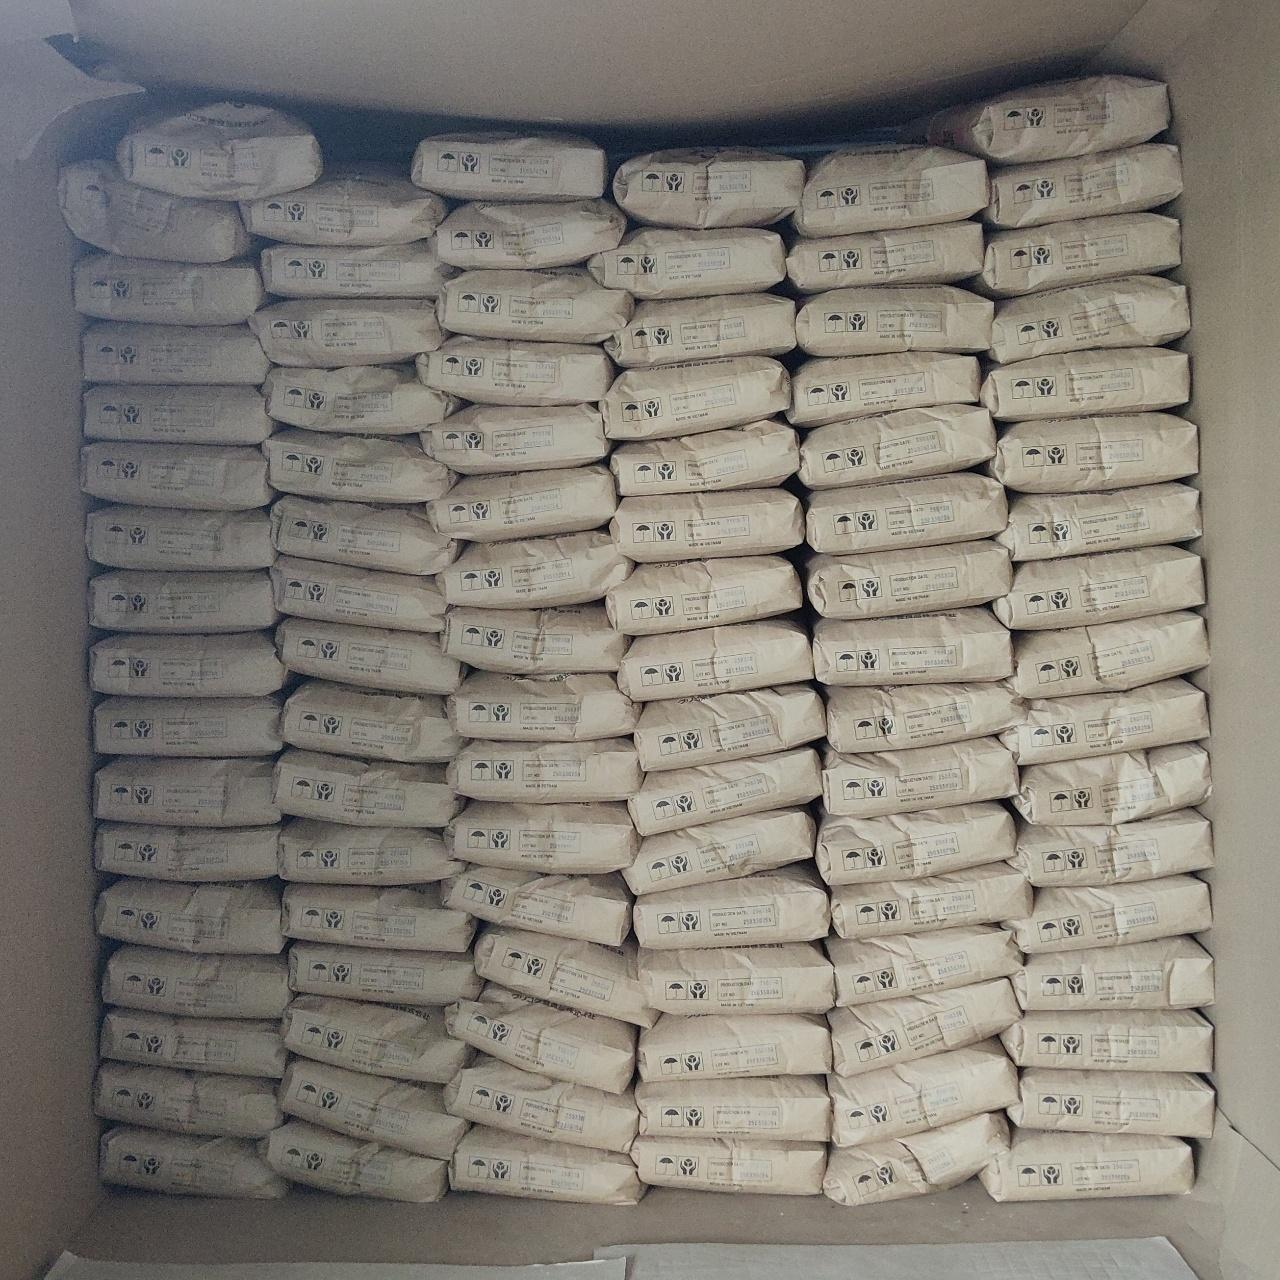sack: (914, 79, 1166, 162), (57, 159, 252, 263), (445, 986, 634, 1088), (830, 1039, 1014, 1142), (118, 104, 320, 198), (280, 1058, 468, 1158), (445, 1056, 636, 1150), (1002, 680, 1206, 764), (476, 926, 652, 1022), (994, 549, 1204, 628), (832, 980, 1017, 1070), (794, 148, 986, 234), (629, 748, 821, 835), (1008, 612, 1206, 694), (634, 864, 826, 948), (826, 1114, 1006, 1204), (976, 215, 1178, 294), (636, 685, 822, 770), (626, 808, 813, 892), (990, 278, 1189, 358), (799, 406, 994, 486), (284, 996, 472, 1080), (983, 147, 1180, 226), (806, 540, 1010, 617), (241, 168, 445, 244), (806, 472, 1006, 550), (816, 804, 1014, 881), (988, 414, 1196, 488), (1010, 810, 1210, 886), (602, 358, 790, 438), (620, 618, 810, 697), (1014, 744, 1208, 822), (813, 608, 1010, 685), (980, 348, 1189, 420), (1008, 876, 1208, 949), (998, 484, 1198, 558), (980, 1128, 1190, 1198), (272, 496, 459, 574), (438, 530, 629, 606), (608, 556, 798, 632), (614, 148, 804, 224), (822, 738, 1014, 813), (832, 862, 1030, 934), (452, 1126, 644, 1201), (444, 866, 629, 944), (260, 1121, 444, 1198), (438, 268, 629, 342), (282, 680, 462, 758), (275, 750, 459, 826), (636, 944, 832, 1014), (612, 420, 798, 493), (275, 618, 462, 692), (264, 430, 456, 502), (828, 928, 1020, 1000), (790, 352, 978, 424), (1012, 938, 1212, 1006), (430, 467, 614, 540), (610, 488, 802, 558), (606, 294, 794, 366), (96, 1062, 282, 1133), (826, 682, 1022, 750), (787, 222, 982, 290), (98, 878, 284, 949), (1010, 1068, 1212, 1133), (102, 1126, 286, 1198), (418, 336, 612, 404), (445, 802, 638, 870), (76, 254, 264, 324), (433, 200, 622, 268), (272, 556, 444, 629), (448, 672, 638, 738), (252, 300, 444, 366), (590, 229, 782, 294), (104, 946, 290, 1014), (796, 286, 990, 350), (411, 134, 606, 198), (264, 366, 458, 430), (102, 1008, 286, 1076), (636, 1076, 830, 1141), (82, 442, 272, 508), (284, 884, 474, 949), (442, 604, 628, 670), (1002, 1010, 1210, 1070), (90, 632, 288, 694), (422, 404, 608, 470), (290, 942, 478, 1005), (640, 1016, 828, 1078), (94, 758, 278, 822), (94, 696, 282, 756), (88, 506, 274, 566), (448, 740, 638, 798), (90, 570, 275, 629), (86, 386, 274, 444), (84, 322, 268, 382), (280, 821, 459, 881), (632, 1136, 824, 1192), (263, 241, 448, 298), (96, 822, 278, 878)
